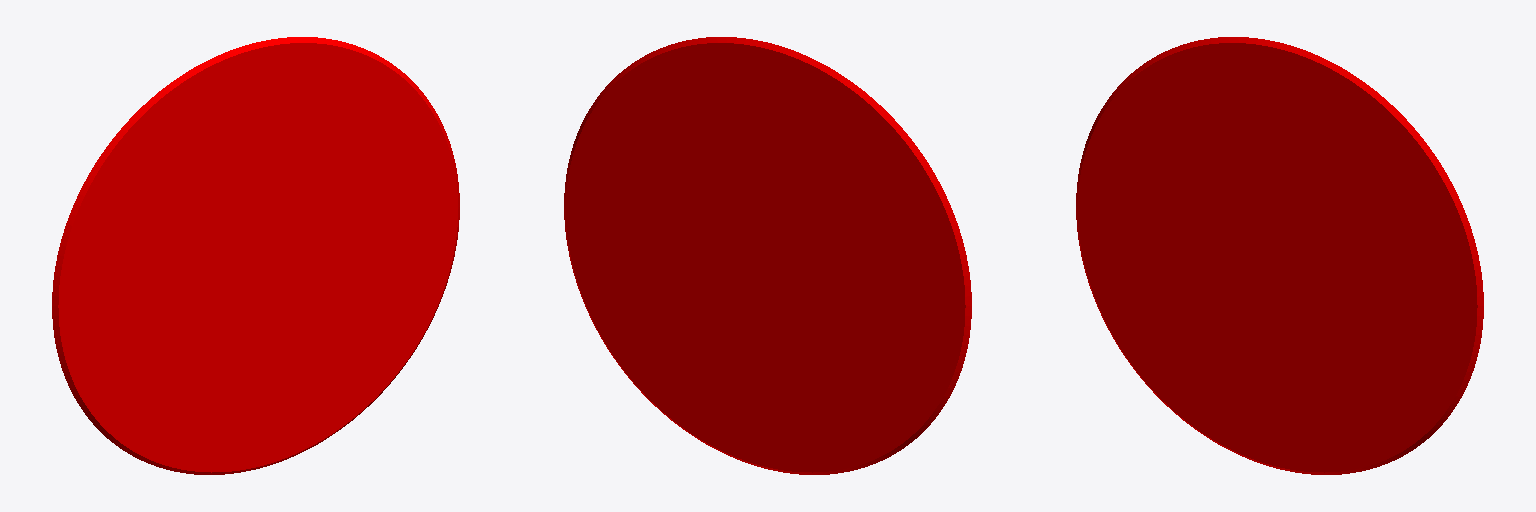
Rendered from disc_taper.obj.
3 renders of one model, left to right at view 1: azimuth 30°, elevation 25°; view 2: azimuth 150°, elevation 25°; view 3: azimuth 330°, elevation 25°, orthographic.
Parts seen in each view (by area): view 1: 1; view 2: 1; view 3: 1.
Boxes of the visible parts, x1=… form: 1: x1=52, y1=37, x2=459, y2=474; 1: x1=564, y1=37, x2=971, y2=474; 1: x1=1076, y1=37, x2=1483, y2=474.
Size of the model in its own units: 10 by 10 by 0.2.